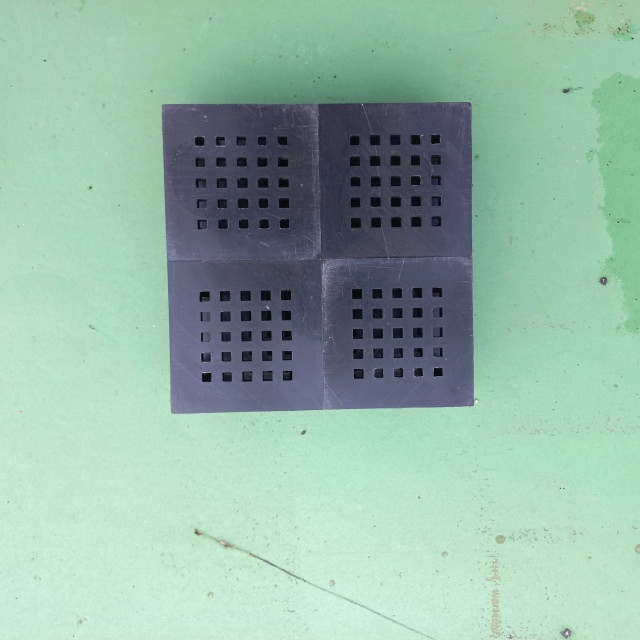pallet: (156, 101, 479, 419)
